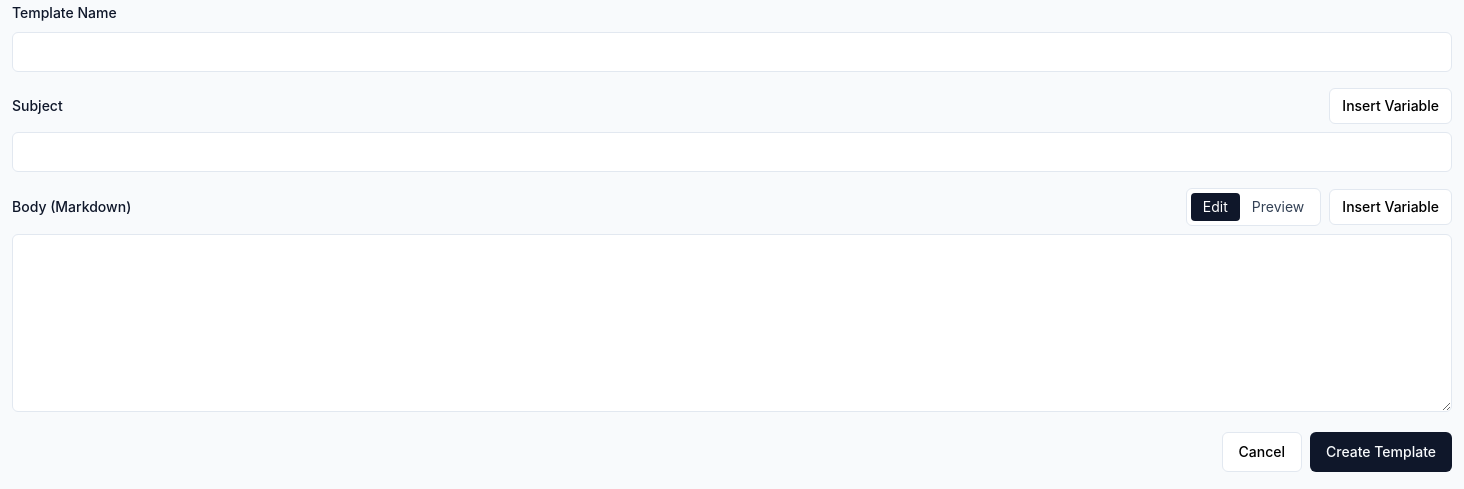
Scenario: TemplateForm › renders markdown preview for body tab
In the text box labelled "Body (Markdown)": (732, 323) [12,234,1452,412], type "# Markdown Title"
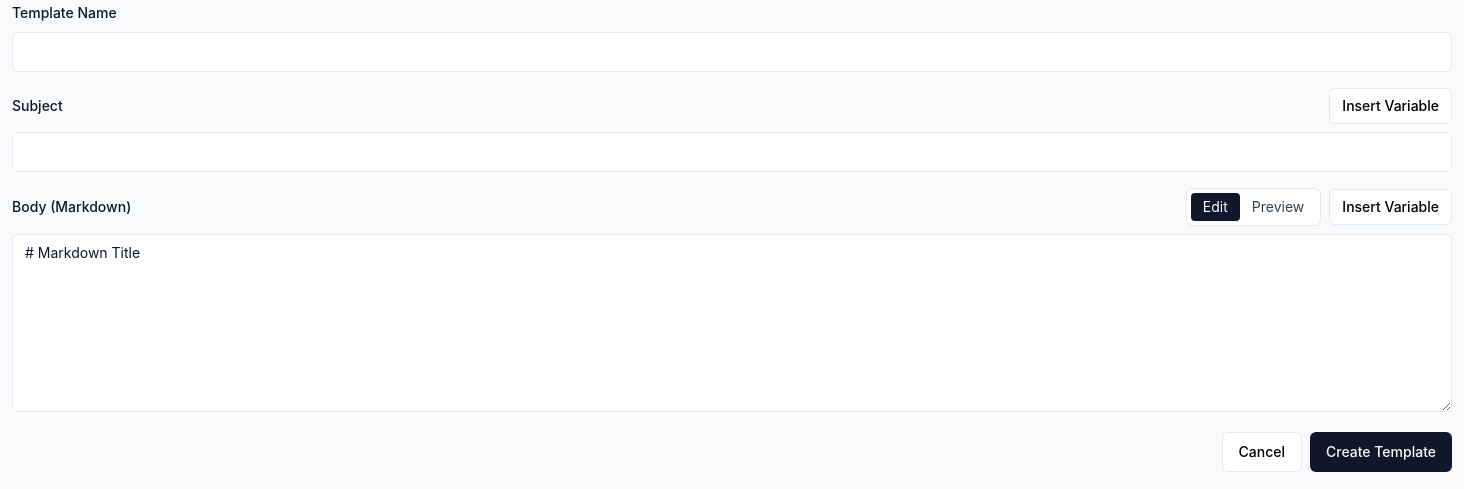
Click the button "Preview": (1278, 207) [1240,193,1316,221]
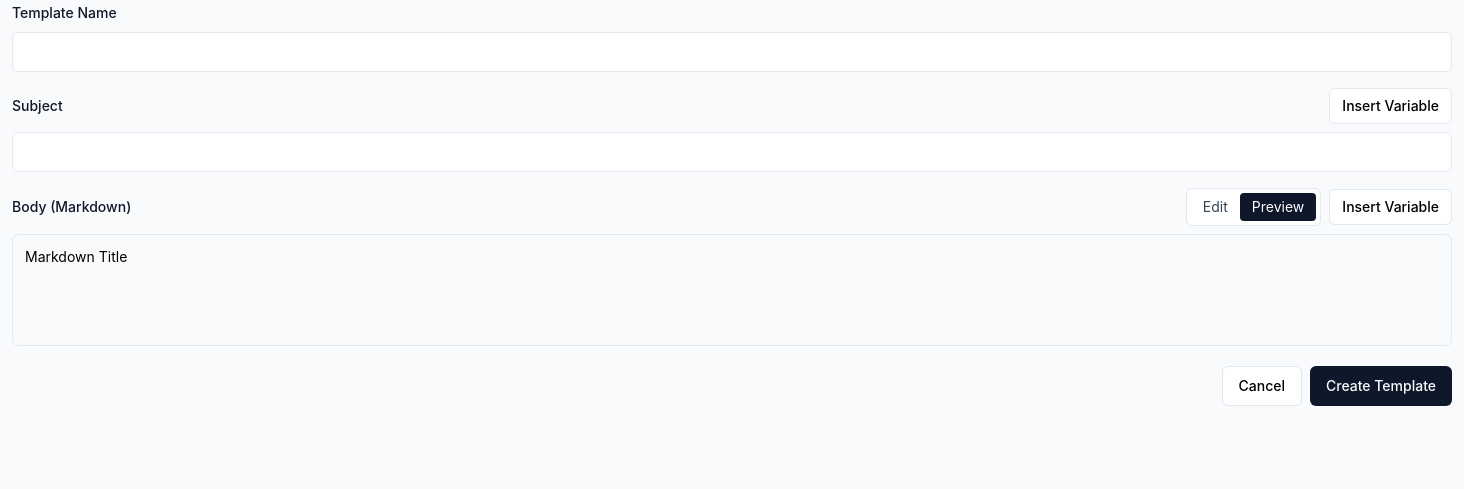
expect the heading "Markdown Title" is shown: met, box [25,248,127,265]
